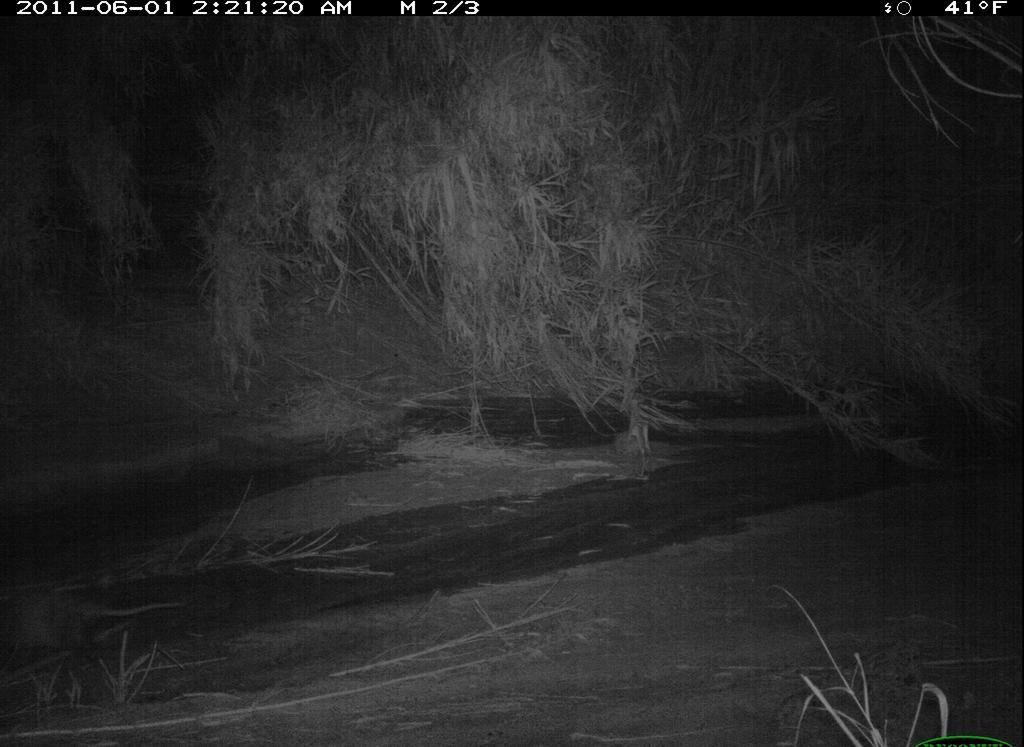opossum: (10, 567, 194, 665)
